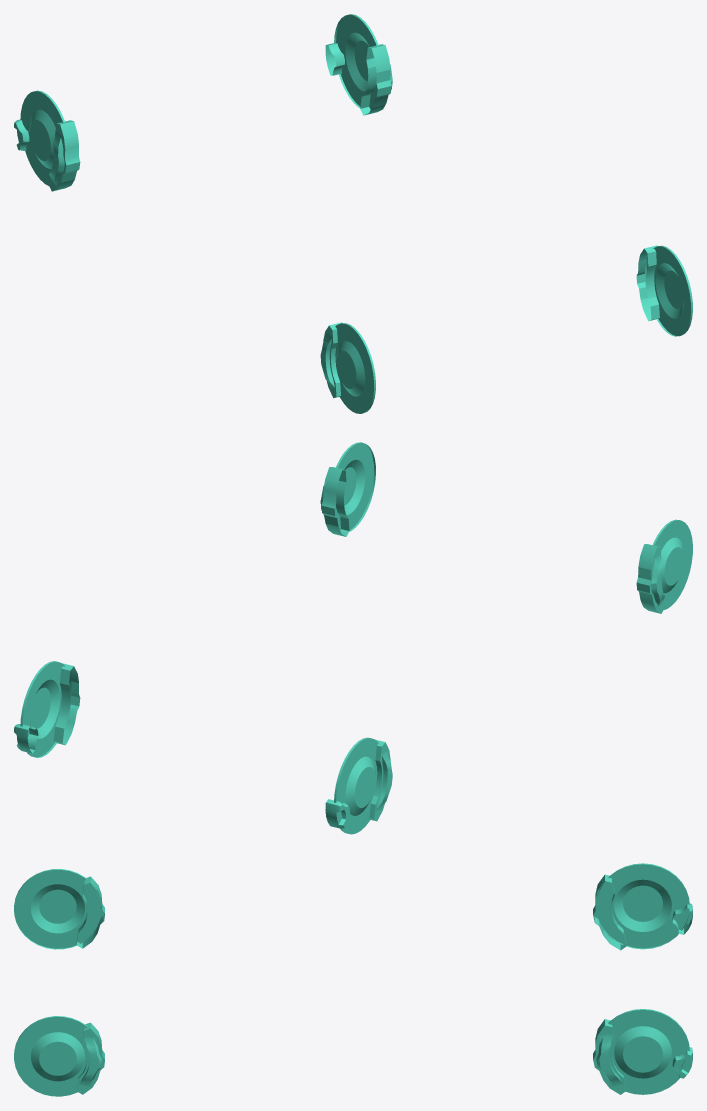
File: Suspension_Carro.obj
The picture shows the model from 3 angles, top to bottom: view 1: azimuth 30°, elevation 25°; view 2: azimuth 150°, elevation 25°; view 3: azimuth 270°, elevation 25°; orthographic projection. The views are drawn at different scales.
Visible parts, largest first — view 1: Suspension_Carro; view 2: Suspension_Carro; view 3: Suspension_Carro.
Boxes of the visible parts, left/top/right/bottom form: Suspension_Carro: left=14, top=14, right=692, bottom=413; Suspension_Carro: left=14, top=442, right=692, bottom=834; Suspension_Carro: left=14, top=863, right=692, bottom=1096.
Bounding box in the file's own units: 53.94 × 13.88 × 99.26.
